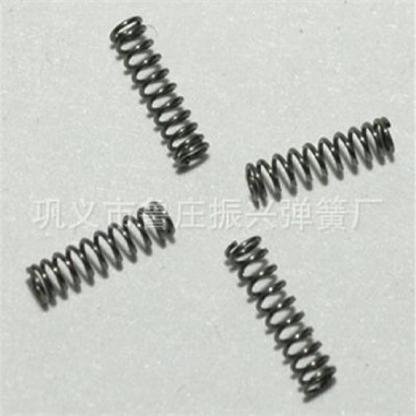FOD: (224, 231, 340, 402), (24, 199, 177, 312), (109, 8, 210, 174), (240, 111, 397, 209)
